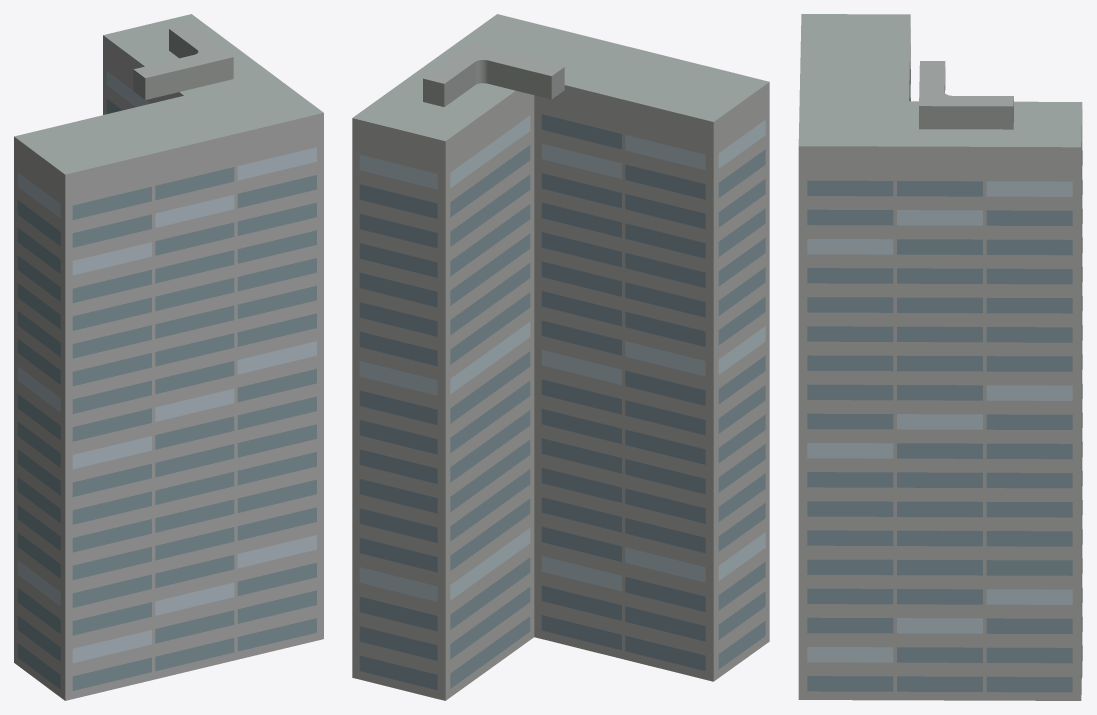
The model's file is fallback-godeok-raemian-hillstate-303.glb.
3 renders of one model, left to right at view 1: azimuth 30°, elevation 25°; view 2: azimuth 150°, elevation 25°; view 3: azimuth 270°, elevation 25°, orthographic. The views are drawn at different scales.
Parts seen in each view (by area): view 1: fallback-godeok-raemian-hillstate-303; view 2: fallback-godeok-raemian-hillstate-303; view 3: fallback-godeok-raemian-hillstate-303.
Part boxes in pixels (x1,y1,x2,y2): fallback-godeok-raemian-hillstate-303: (14, 14, 323, 700); fallback-godeok-raemian-hillstate-303: (352, 14, 769, 700); fallback-godeok-raemian-hillstate-303: (798, 14, 1082, 700).
Bounding box in the file's own units: 29.8 × 60 × 26.81.
